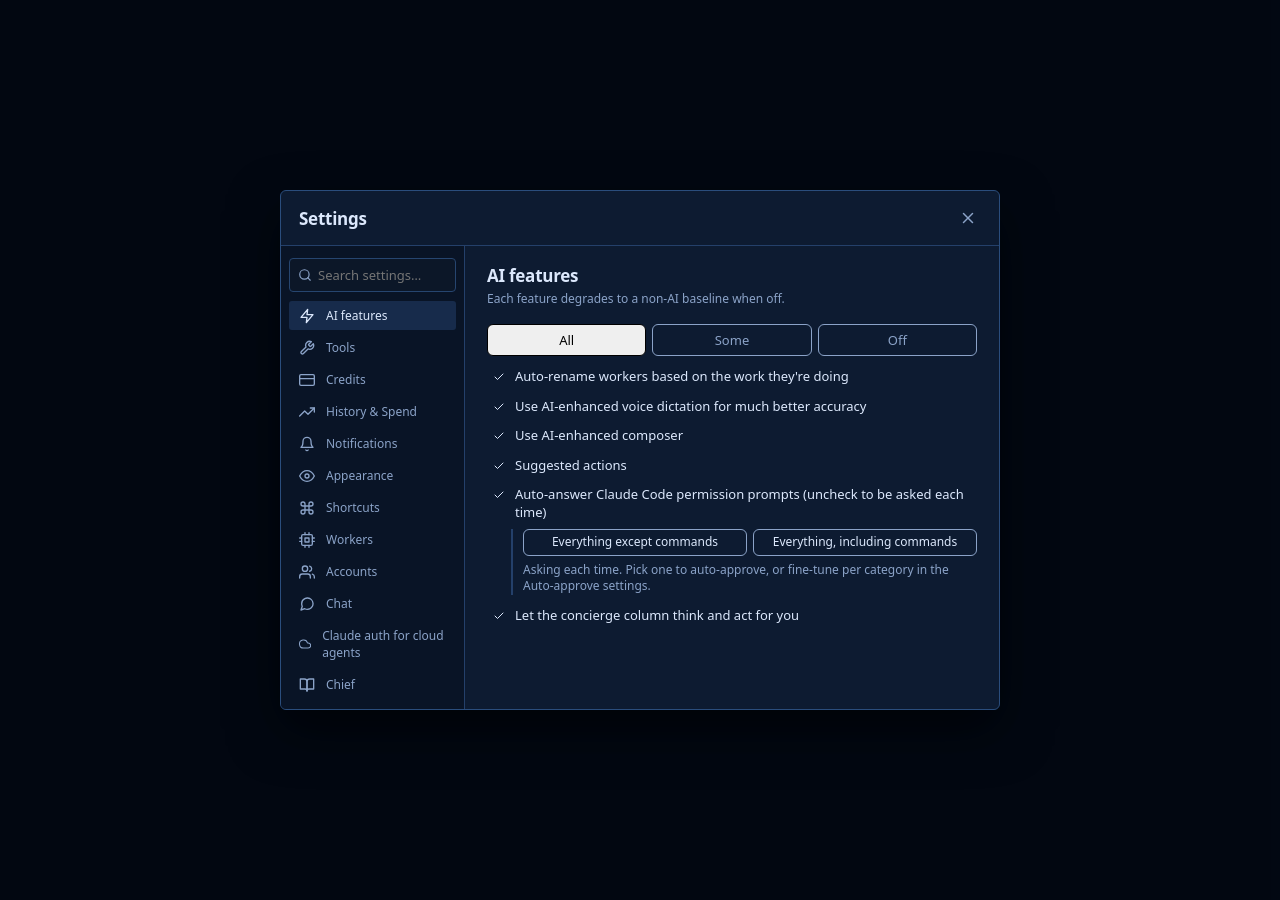
Test case: SettingsDialog — rail search › matches a MULTI-WORD query per term, not as one adjacent phrase
Type "talk microphone" into the field labelled "Search settings".
click(372, 275); type("talk microphone")  # box left=289, top=258, right=456, bottom=292
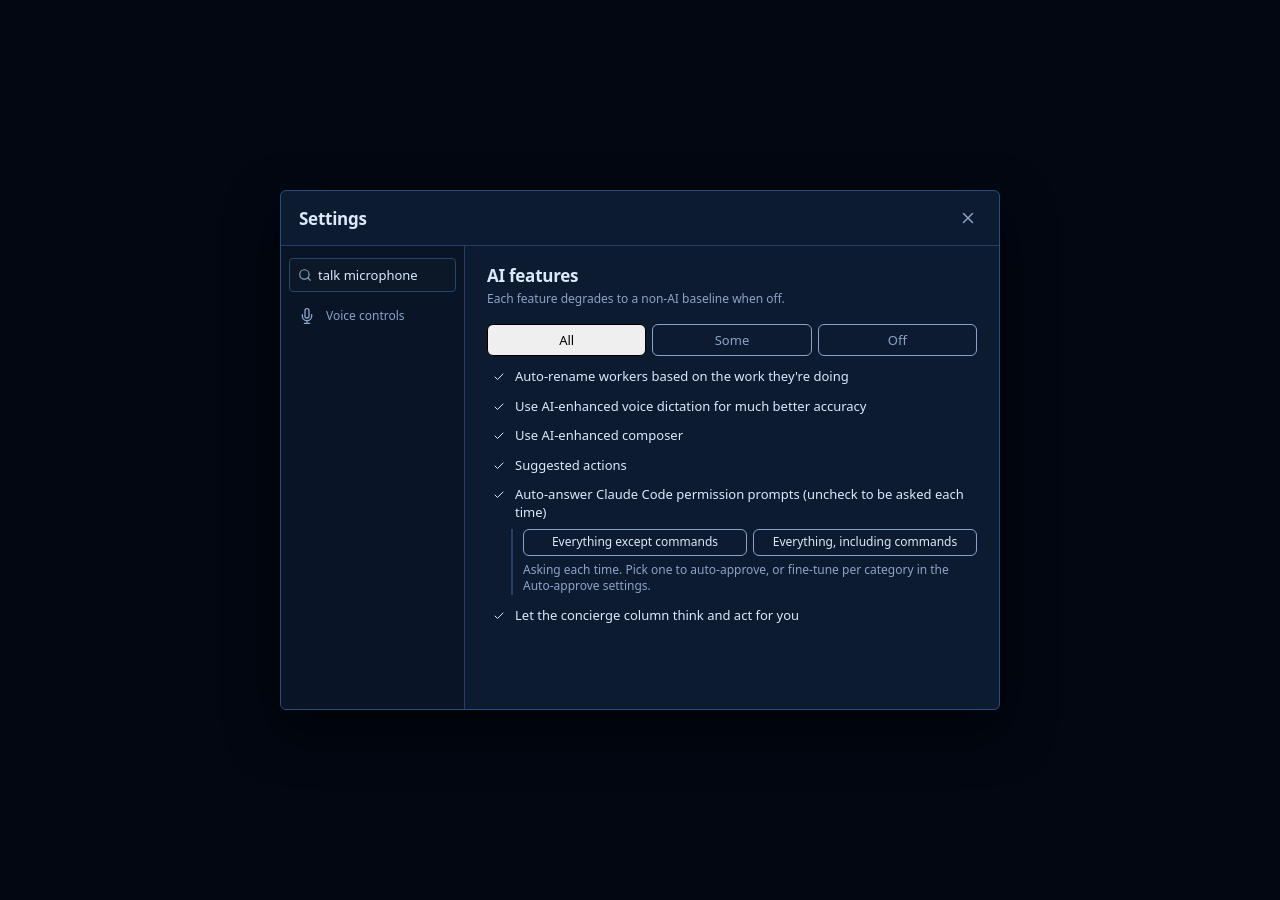
Result: the button "Voice controls" is shown at left=289, top=301, right=456, bottom=330
Every term is still REQUIRED — this is a filter, not a fuzzy any-of.
Replace the text in the field named "Search settings" with "talk keyboard" at x=372, y=275, box left=289, top=258, right=456, bottom=292
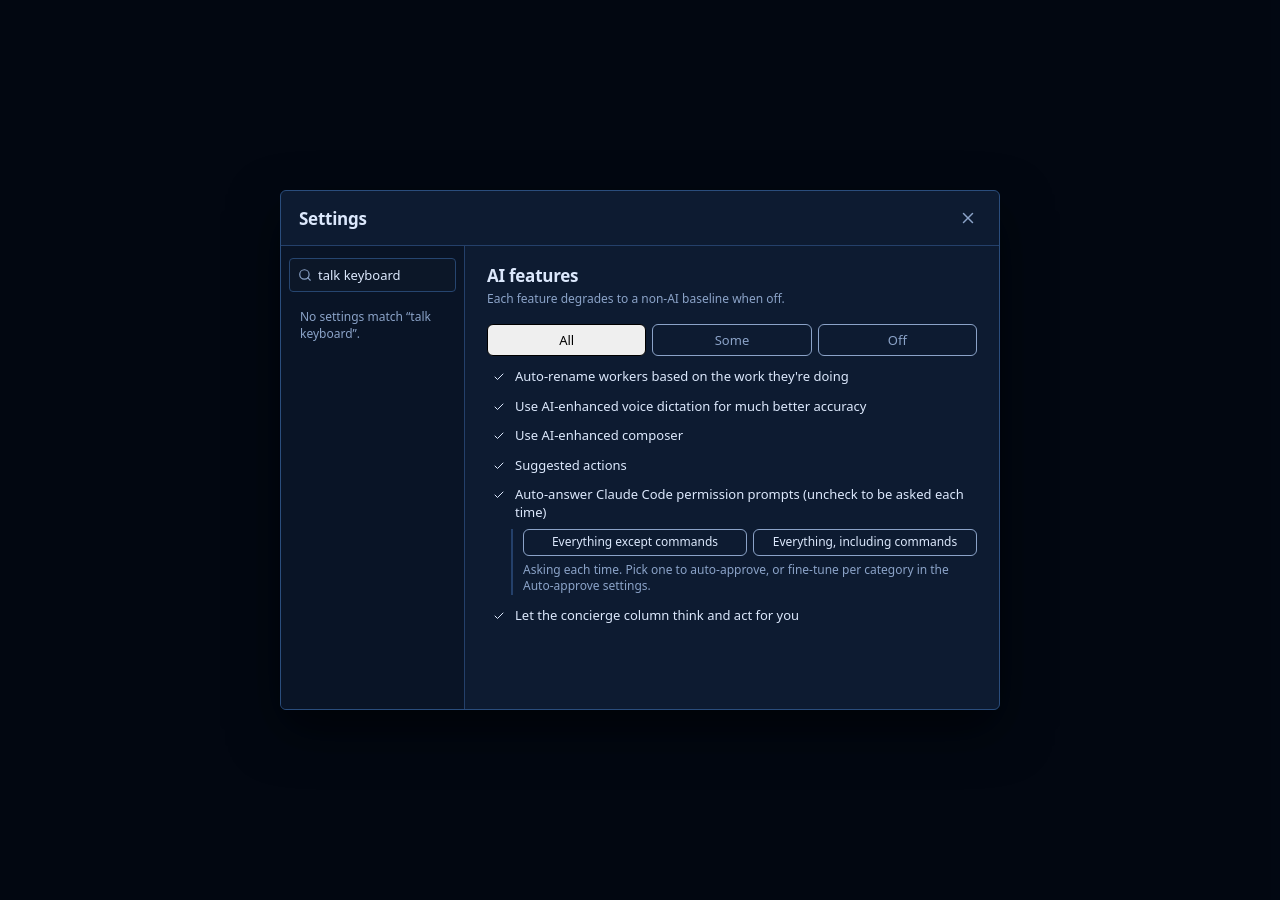
Result: the button "Voice controls" is gone
